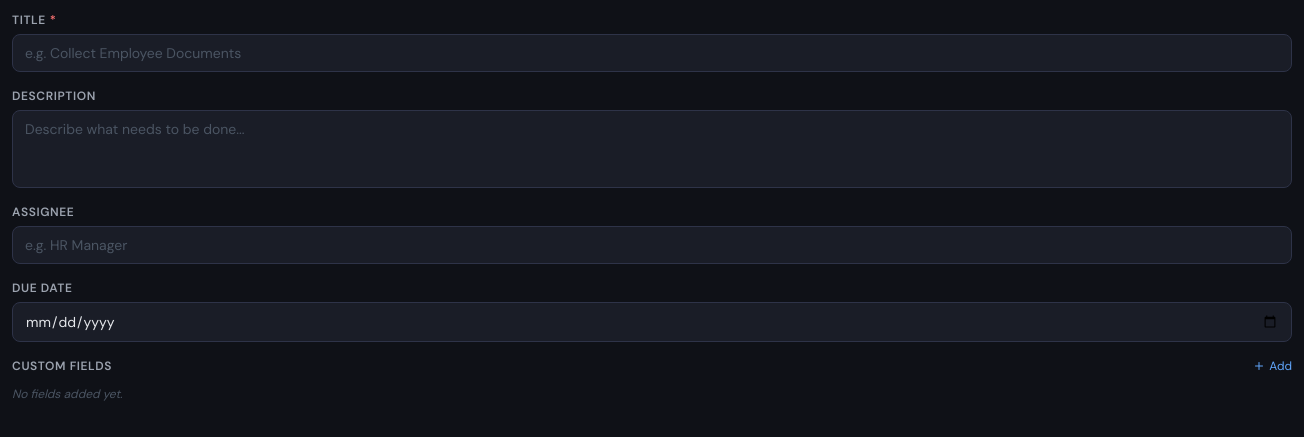
Test: TaskNodeForm › adds a custom field row when Add button is clicked
Click the button "Add": [1273, 366] box [1253,358,1292,374]
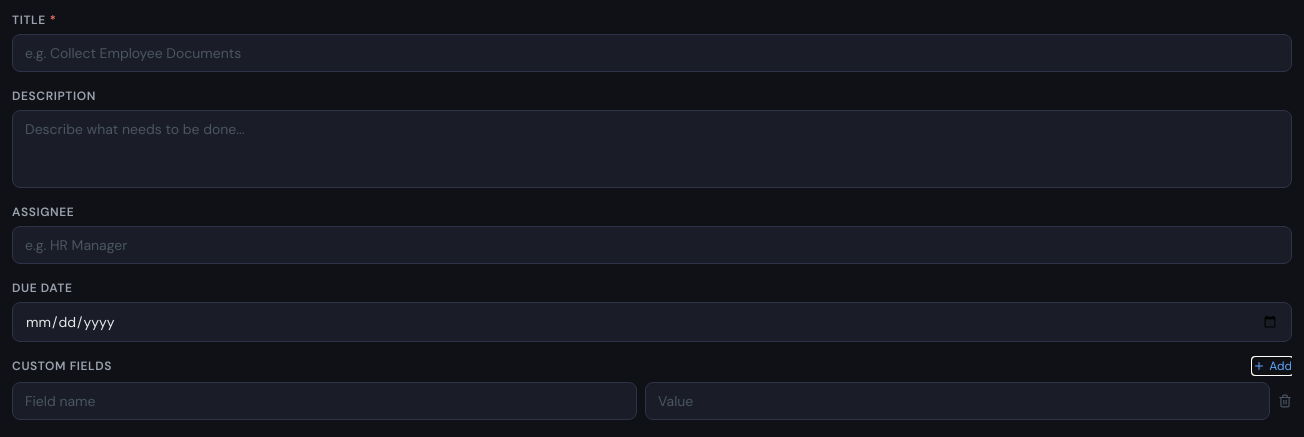
Expected: the field with placeholder "Field name" is shown, [12,382,637,420]
